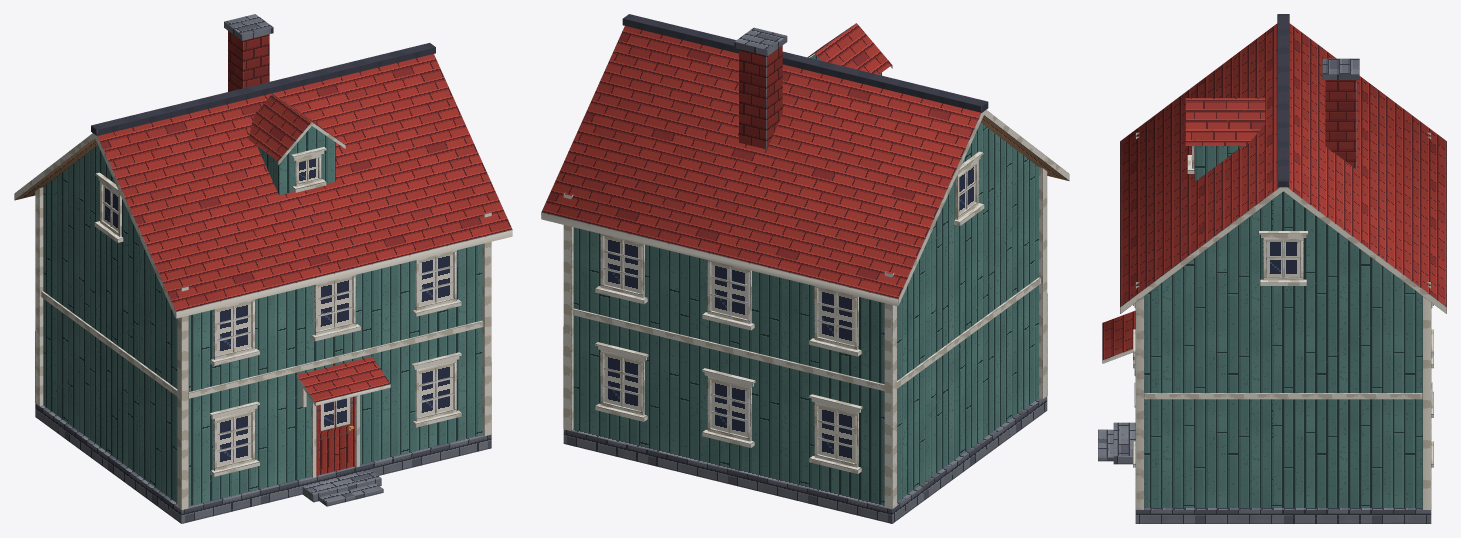
The model's file is town_house_2.glb.
The picture shows the model from 3 angles, left to right: view 1: azimuth 30°, elevation 25°; view 2: azimuth 150°, elevation 25°; view 3: azimuth 270°, elevation 25°; orthographic projection. The views are drawn at different scales.
Parts seen in each view (by area): view 1: town_house_3; view 2: town_house_3; view 3: town_house_3.
Part boxes in pixels (x1=…): town_house_3: x1=14, y1=14, x2=512, y2=523; town_house_3: x1=541, y1=14, x2=1069, y2=523; town_house_3: x1=1098, y1=14, x2=1446, y2=523.
Size of the model in its own units: 8.96 by 9.69 by 7.9.
Materials: 10 (10 with a texture image).
